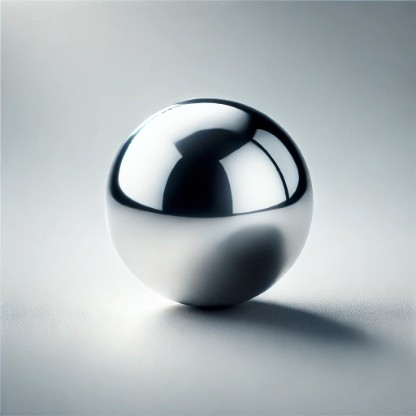ironball: (104, 97, 313, 307)
